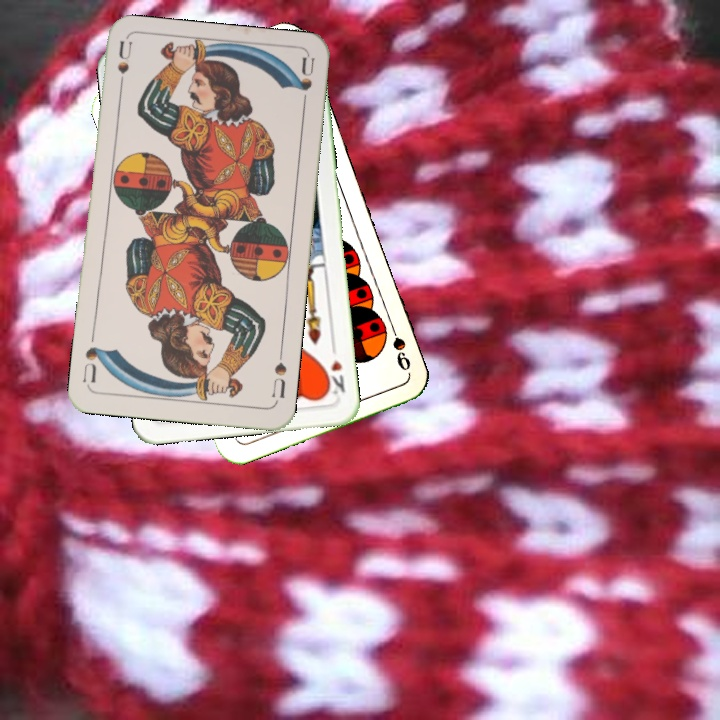HK: (320, 340, 348, 400)
S9: (385, 318, 414, 374)
SU: (113, 39, 135, 98), (268, 346, 290, 401)
